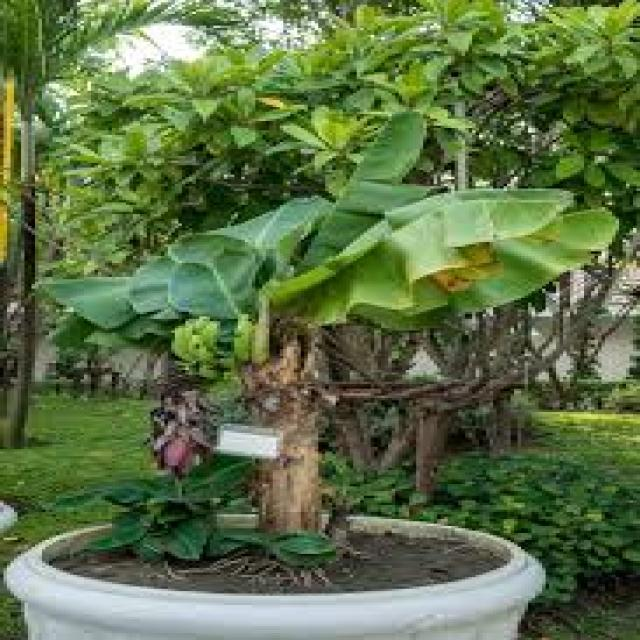banana: (170, 318, 276, 374)
